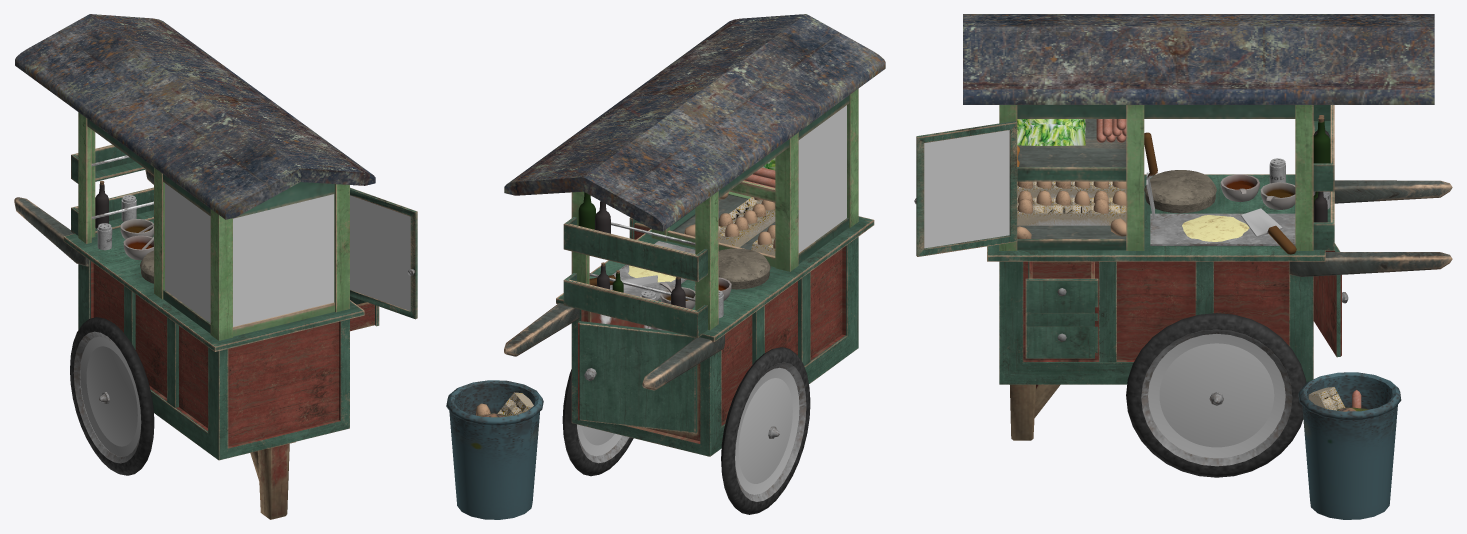
The model's file is puesto.fbx.
3 views of the same model, side by side, from view 1: azimuth 30°, elevation 25°; view 2: azimuth 150°, elevation 25°; view 3: azimuth 270°, elevation 25° (orthographic). The views are drawn at different scales.
Parts seen in each view (by area): view 1: gerobak_mergetex, Cylinder.012, Cylinder.011, bottle_red.003; view 2: gerobak_mergetex, Cylinder.005, Cube.027, Cube.034; view 3: gerobak_mergetex, Cylinder.005, Cube.027, Cube.033, Cone.001, Cube.012, Cylinder.012, Cylinder.011, Cube.022, bottle_green.001.
Boxes of the visible parts, bbox=[...] form: gerobak_mergetex: bbox=[14, 14, 417, 519]; Cylinder.012: bbox=[123, 235, 153, 260]; Cylinder.011: bbox=[120, 219, 153, 239]; bottle_red.003: bbox=[95, 181, 108, 228]; gerobak_mergetex: bbox=[504, 14, 885, 514]; Cylinder.005: bbox=[446, 380, 543, 519]; Cube.027: bbox=[718, 197, 775, 247]; Cube.034: bbox=[497, 392, 533, 416]; gerobak_mergetex: bbox=[914, 14, 1452, 477]; Cylinder.005: bbox=[1298, 372, 1401, 519]; Cube.027: bbox=[1017, 197, 1126, 225]; Cube.033: bbox=[1017, 119, 1085, 145]; Cone.001: bbox=[1182, 215, 1249, 241]; Cube.012: bbox=[1241, 208, 1296, 254]; Cylinder.012: bbox=[1220, 174, 1259, 201]; Cylinder.011: bbox=[1260, 182, 1295, 209]; Cube.022: bbox=[1017, 181, 1126, 197]; bottle_green.001: bbox=[1313, 117, 1330, 163].
Bounding box in the file's own units: 266 × 374 × 445.
